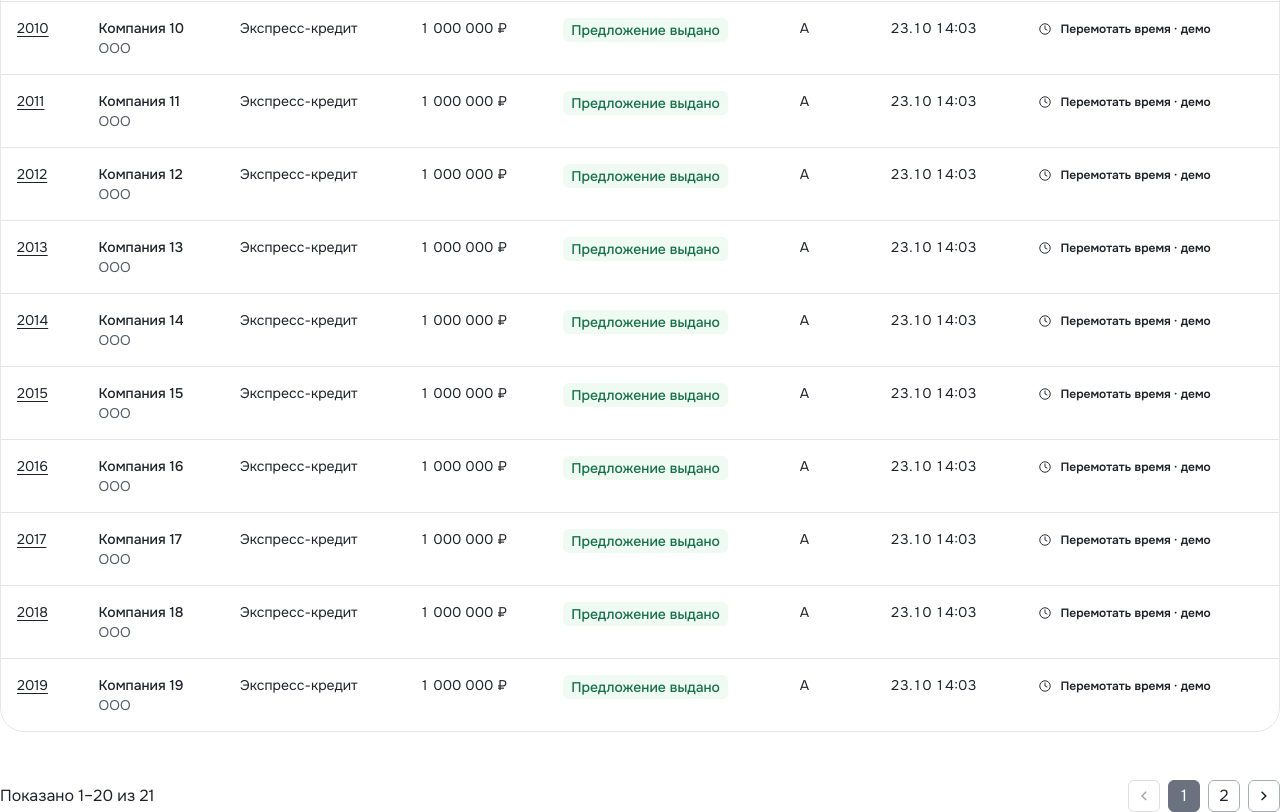
it: возвращается на существующую страницу, если последняя оферта на странице истекла
This screenshot has width=1280, height=812.
(page scrolled)
Expected: the text "Показано 1–20 из 21" is shown, [0,784,154,808]
Click the button named "Страница 2": {"x": 1224, "y": 796} [1208,780,1240,811]
(page scrolled)
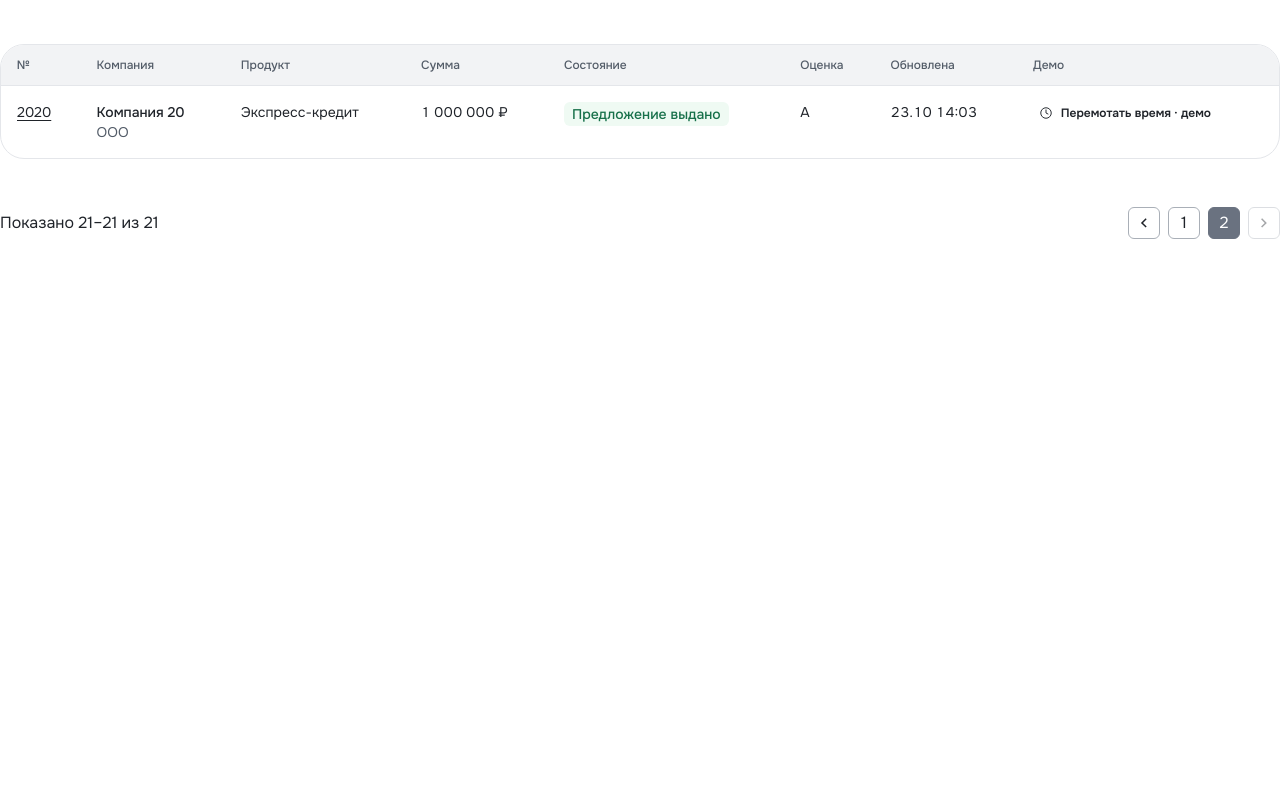
Expected: the text "Показано 21–21 из 21" is shown, [0,211,158,235]
Click the button "Перемотать время · демо": {"x": 1126, "y": 113} [1033,102,1219,124]
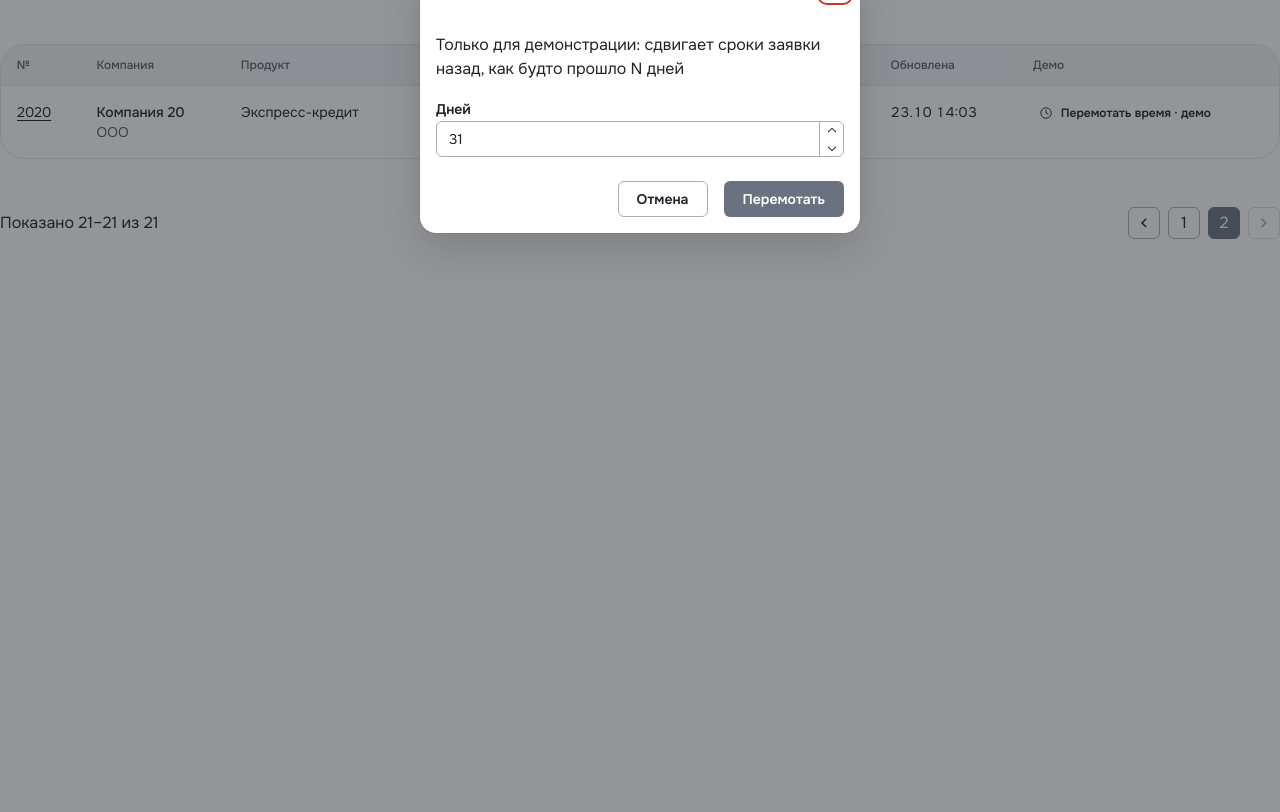
Click the button "Перемотать": {"x": 784, "y": 199} [724,181,844,217]
(page scrolled)
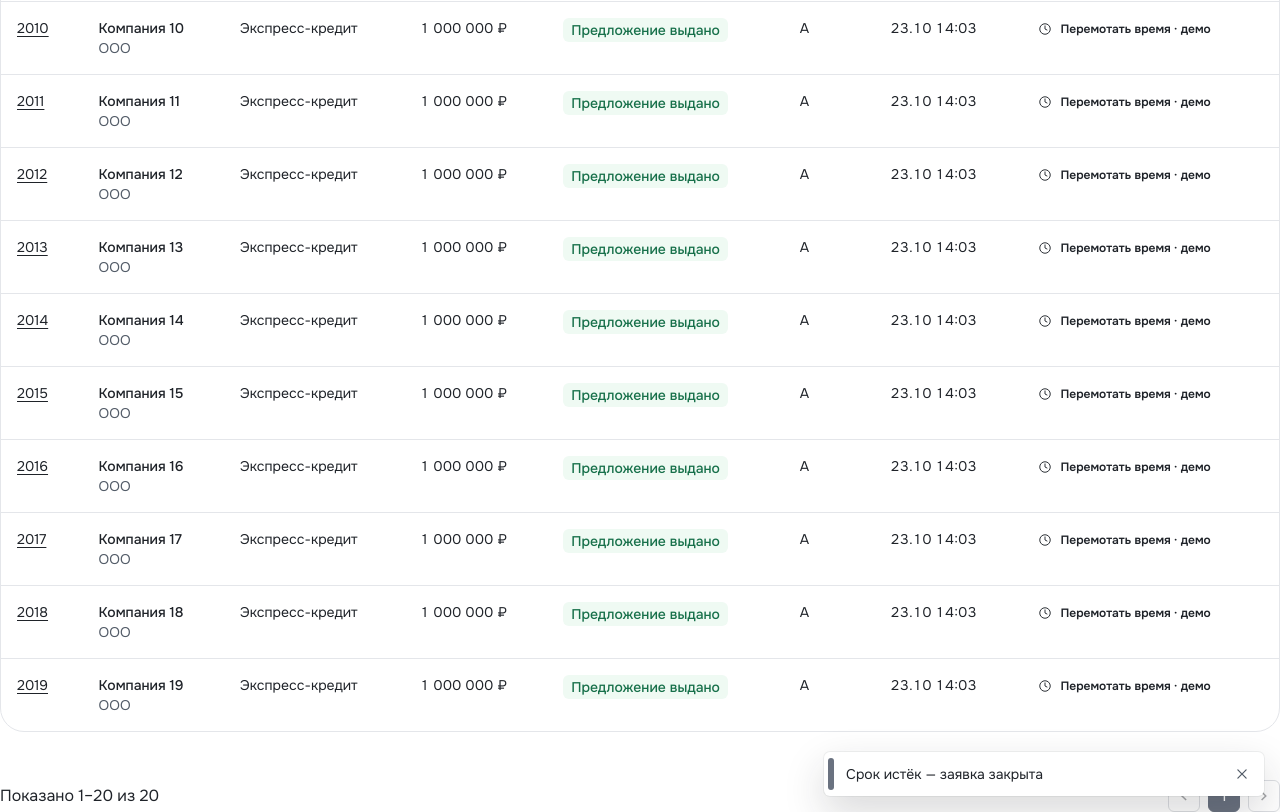
Expected: the text "Показано 1–20 из 20" is shown, [0,784,159,808]
